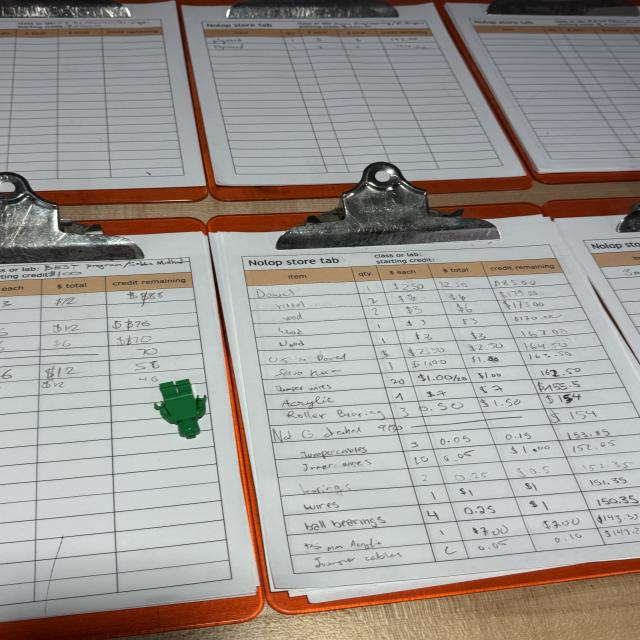Green Mini Figure: (154, 379, 206, 439)
